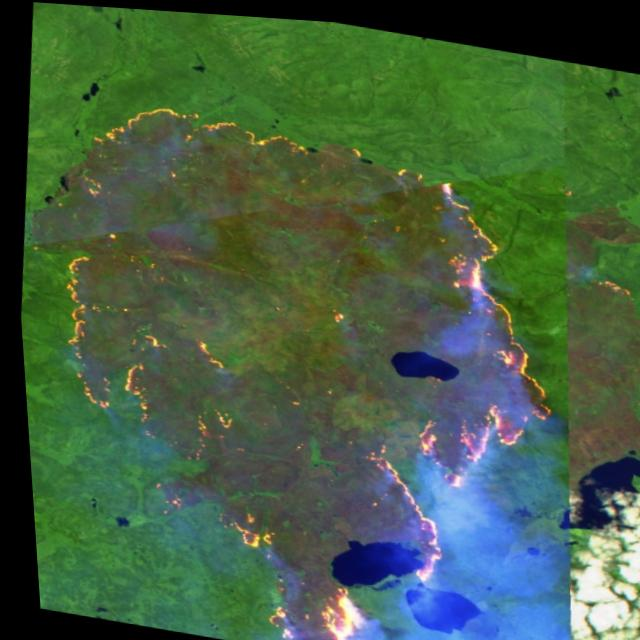fire: (4, 78, 591, 640)
